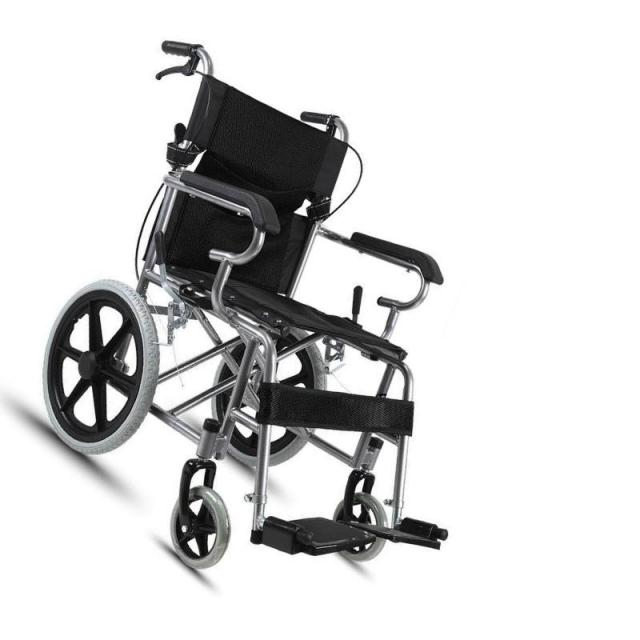wheelchair: (35, 30, 503, 603)
